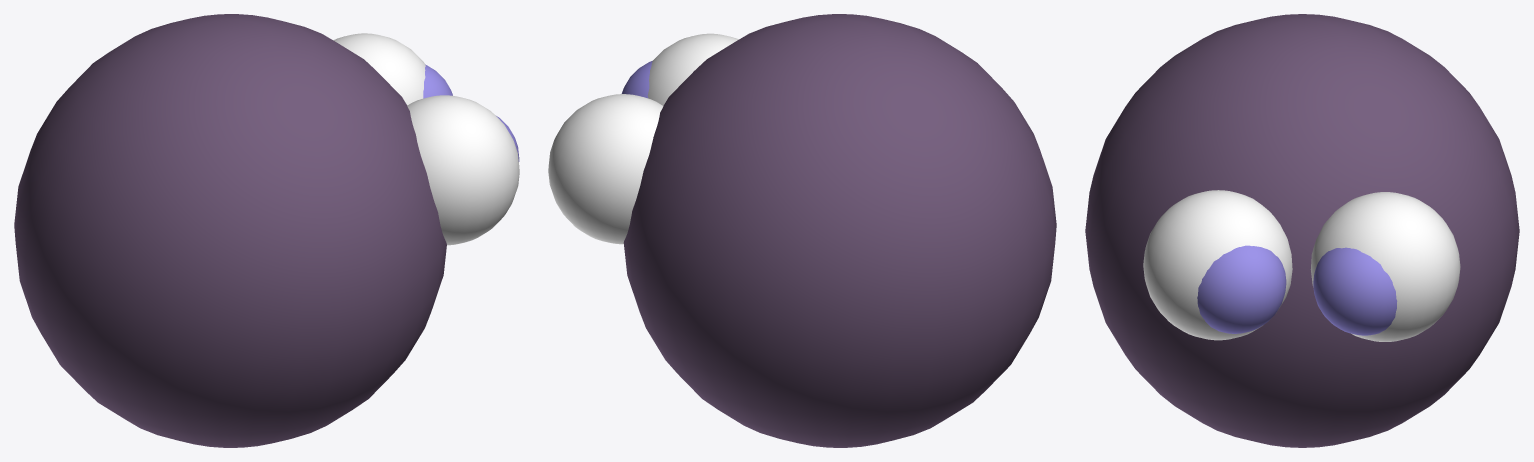
Rendered from flicker.fbx.
3 renders of one model, left to right at view 1: azimuth 30°, elevation 25°; view 2: azimuth 150°, elevation 25°; view 3: azimuth 270°, elevation 25°, orthographic.
Visible parts, largest first — view 1: Sphere, Sphere.001, Sphere.002, Sphere.003; view 2: Sphere, Sphere.002, Sphere.001, Sphere.004; view 3: Sphere, Sphere.002, Sphere.001, Sphere.004, Sphere.003.
Boxes of the visible parts, x1,y1,x2,y2 form: Sphere: (14, 14, 446, 447); Sphere.001: (407, 95, 519, 245); Sphere.002: (333, 33, 425, 105); Sphere.003: (423, 64, 452, 98); Sphere: (623, 14, 1056, 447); Sphere.002: (548, 94, 663, 244); Sphere.001: (647, 33, 738, 105); Sphere.004: (621, 61, 652, 98); Sphere: (1085, 14, 1519, 447); Sphere.002: (1310, 192, 1460, 341); Sphere.001: (1143, 190, 1292, 340); Sphere.004: (1197, 245, 1286, 333); Sphere.003: (1313, 247, 1397, 335).
Bounding box in the file's own units: 401 × 345 × 345.
